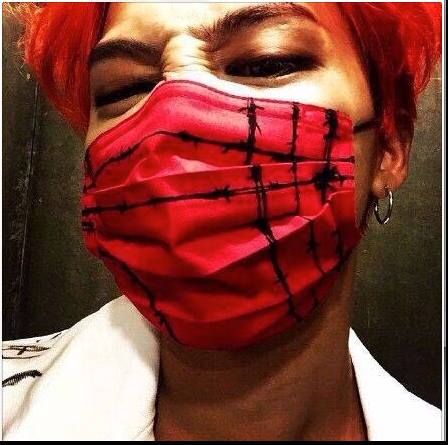face_mask: (79, 1, 365, 337)
